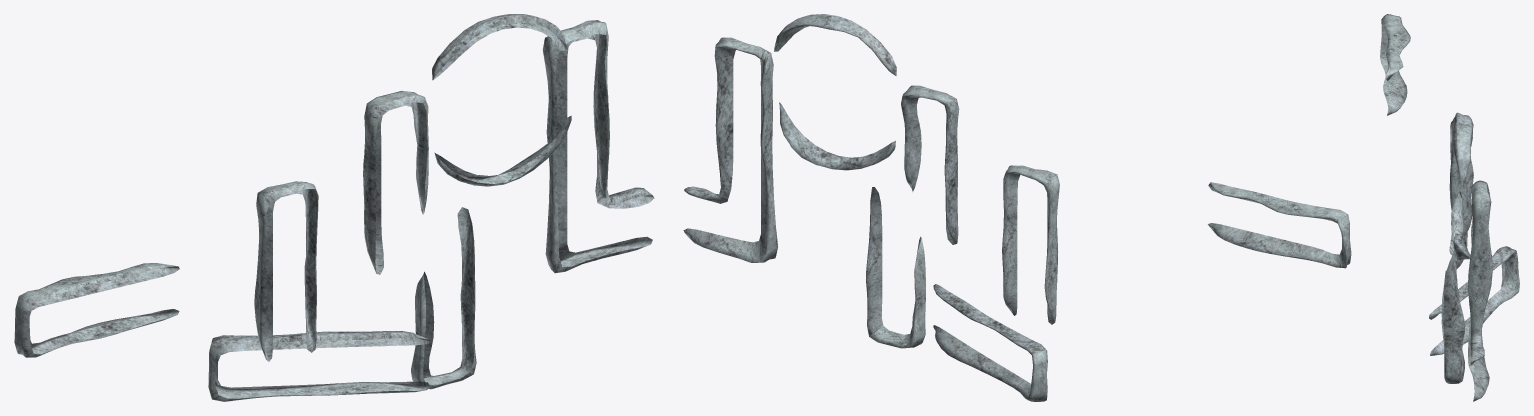
The model's file is extras.fbx.
3 renders of one model, left to right at view 1: azimuth 30°, elevation 25°; view 2: azimuth 150°, elevation 25°; view 3: azimuth 270°, elevation 25°, orthographic. The views are drawn at different scales.
Parts seen in each view (by area): view 1: icedecal; view 2: icedecal; view 3: icedecal.
Part boxes in pixels (<box>): icedecal: <box>14,14,654,401</box>; icedecal: <box>683,14,1351,401</box>; icedecal: <box>1380,14,1519,401</box>.
Bounding box in the file's own units: 78.61 × 38.14 × 17.19.
1 material, 1 textured.
